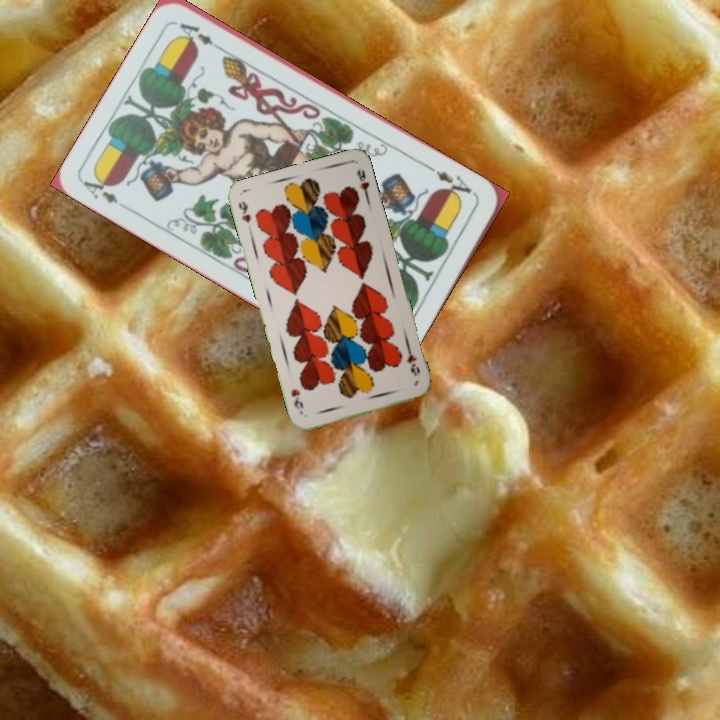EA: (79, 171, 133, 214), (425, 162, 479, 203)
H9: (402, 343, 422, 379), (234, 197, 253, 226)
